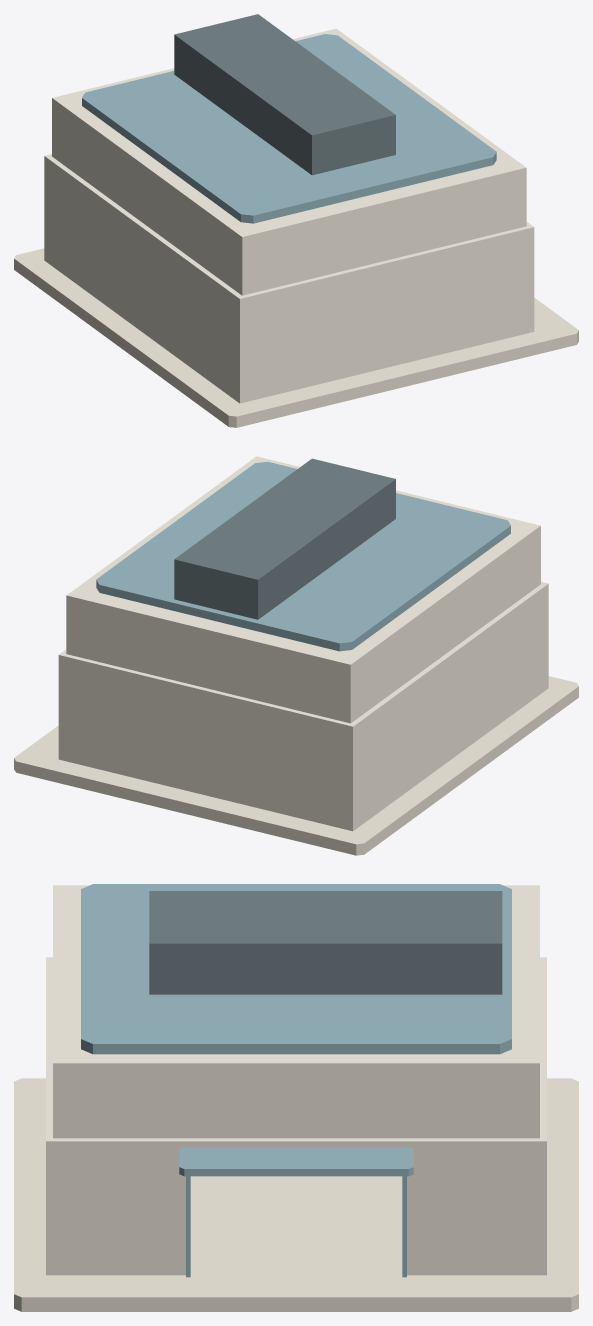
The model's file is Workshop_5p4m_v4_ShadowProxy.glb.
The picture shows the model from 3 angles, top to bottom: view 1: azimuth 30°, elevation 25°; view 2: azimuth 150°, elevation 25°; view 3: azimuth 270°, elevation 25°; orthographic projection. The views are drawn at different scales.
Parts seen in each view (by area): view 1: Workshop_5p4m_v4_ShadowProxy / Structure, Workshop_5p4m_v4_ShadowProxy / Roof, Workshop_5p4m_v4_ShadowProxy / Foundation; view 2: Workshop_5p4m_v4_ShadowProxy / Structure, Workshop_5p4m_v4_ShadowProxy / Roof, Workshop_5p4m_v4_ShadowProxy / Foundation; view 3: Workshop_5p4m_v4_ShadowProxy / Structure, Workshop_5p4m_v4_ShadowProxy / Roof, Workshop_5p4m_v4_ShadowProxy / Foundation, Workshop_5p4m_v4_ShadowProxy / Entrance modules.
Part boxes in pixels (box(x1,y1,x2,y2)): Workshop_5p4m_v4_ShadowProxy / Structure: box(44, 28, 534, 403); Workshop_5p4m_v4_ShadowProxy / Roof: box(82, 14, 496, 223); Workshop_5p4m_v4_ShadowProxy / Foundation: box(14, 248, 578, 427); Workshop_5p4m_v4_ShadowProxy / Structure: box(58, 456, 548, 831); Workshop_5p4m_v4_ShadowProxy / Roof: box(96, 458, 510, 651); Workshop_5p4m_v4_ShadowProxy / Foundation: box(14, 676, 578, 855); Workshop_5p4m_v4_ShadowProxy / Structure: box(46, 885, 546, 1275); Workshop_5p4m_v4_ShadowProxy / Roof: box(81, 884, 511, 1054); Workshop_5p4m_v4_ShadowProxy / Foundation: box(14, 1078, 578, 1311); Workshop_5p4m_v4_ShadowProxy / Entrance modules: box(179, 1147, 413, 1303).
Bounding box in the file's own units: 11 × 6.68 × 12.
